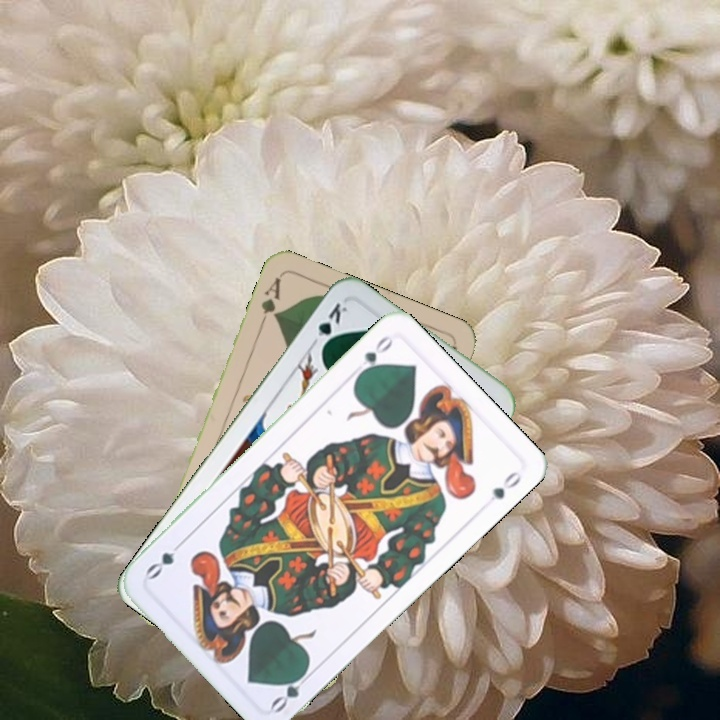GA: (255, 273, 284, 330)
GK: (313, 298, 350, 353)
GO: (267, 664, 316, 715), (353, 331, 396, 380)
